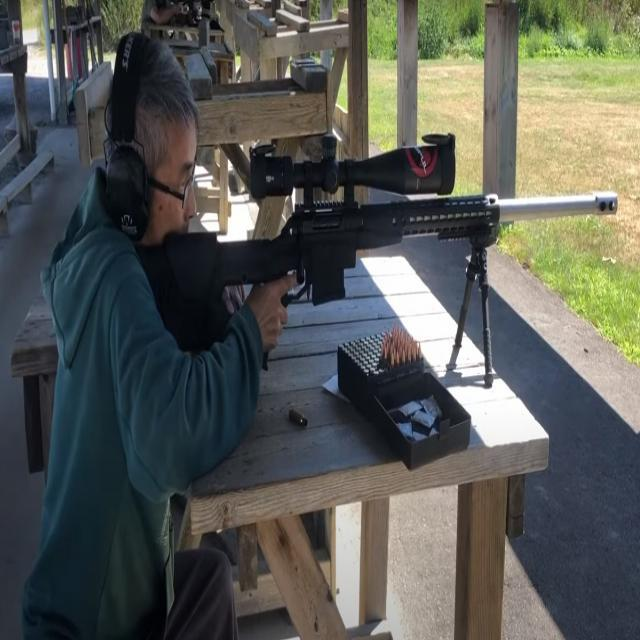rifle: (124, 132, 619, 413)
